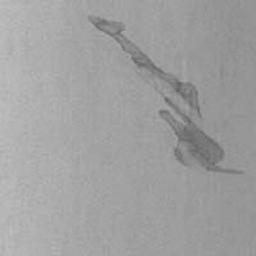Water spot: (84, 12, 246, 175)
